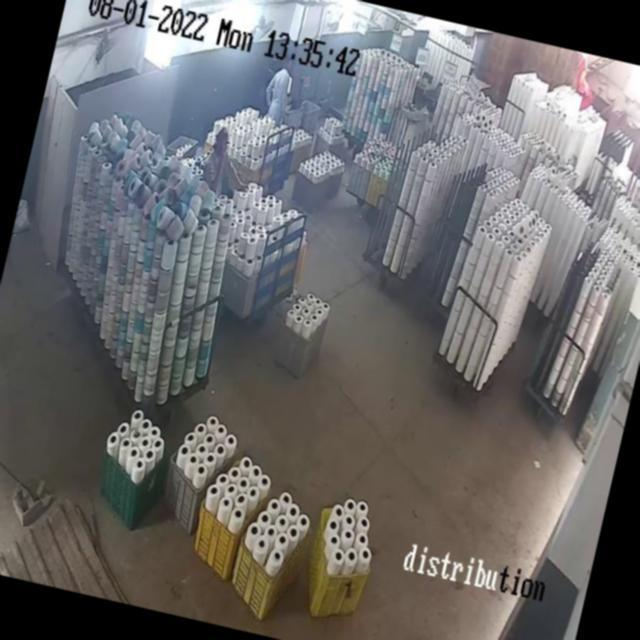person: (260, 51, 298, 118), (205, 123, 238, 180), (405, 90, 430, 134)
